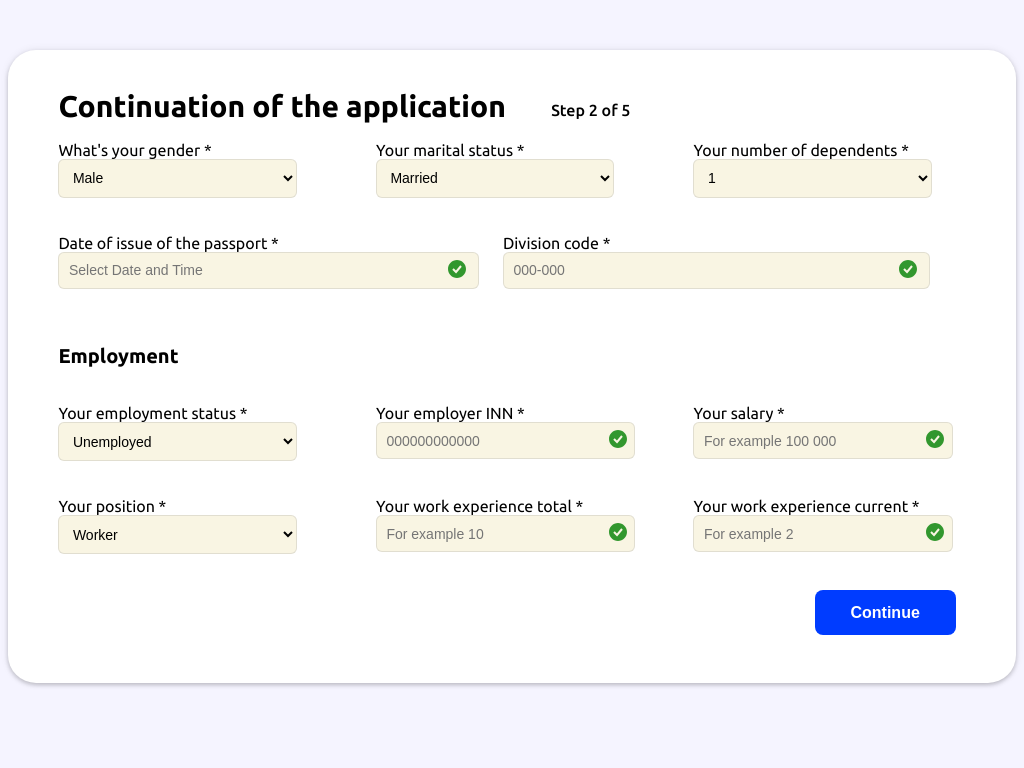
Test: Scoring component › with invalid gender › renders the gender validation error
Select "123" in the dropdown labelled "What's your gender *" at (177, 178), box left=58, top=159, right=296, bottom=198
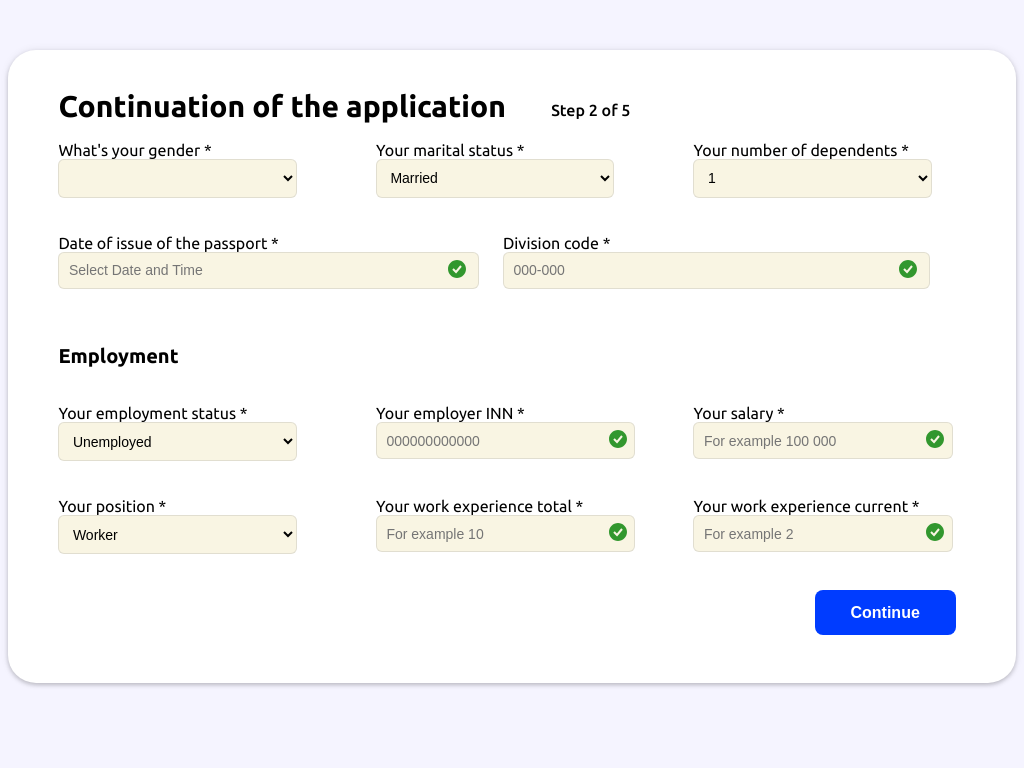
Leave the dropdown labelled "What's your gender *", box left=58, top=159, right=296, bottom=198
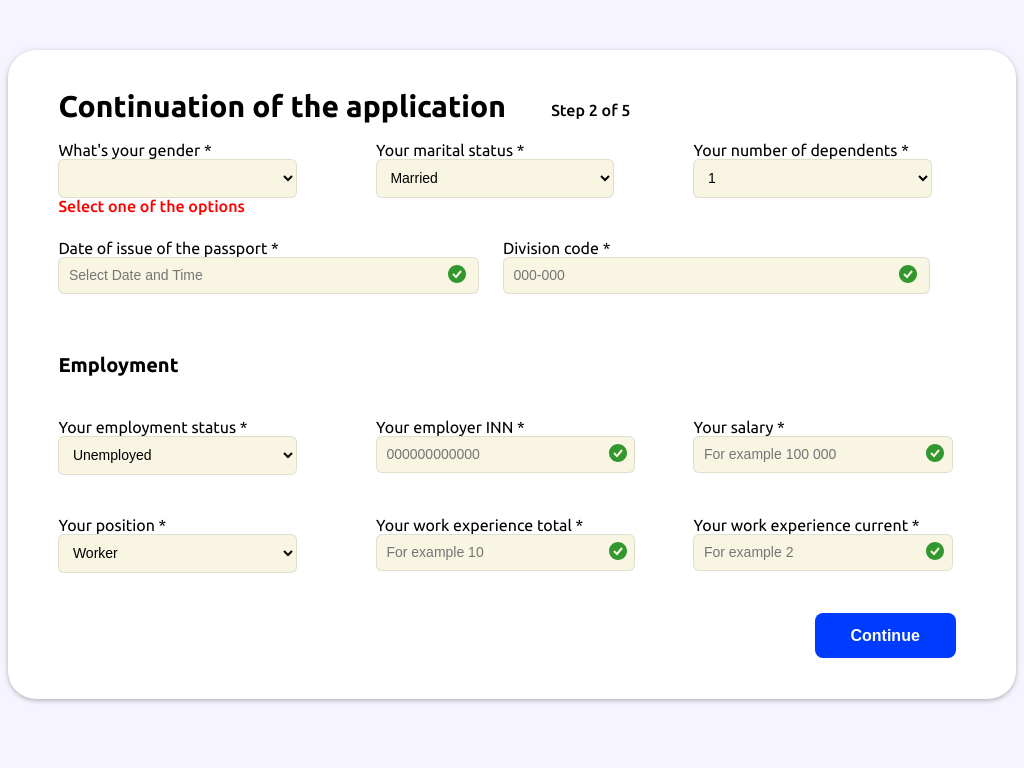
expect the text "Select one of the options" is shown: met, box left=58, top=197, right=245, bottom=215
